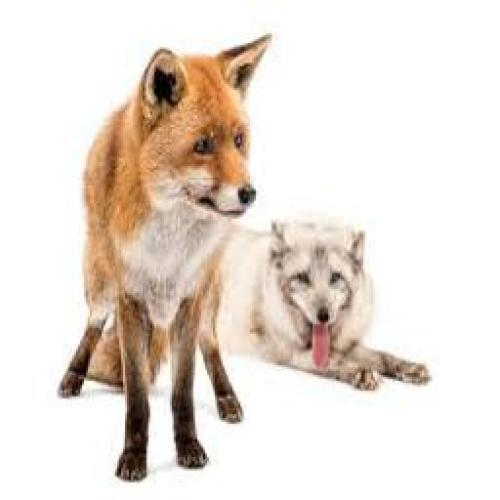arctic_fox-endangered: (61, 34, 271, 489), (193, 209, 432, 394)
